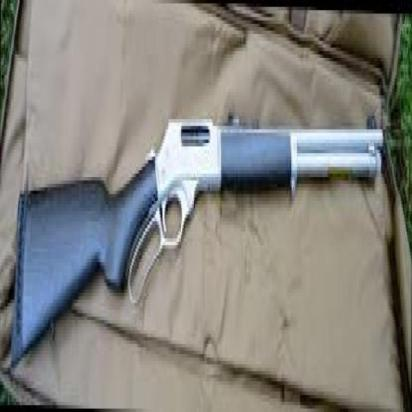Gun: (10, 91, 387, 384)
